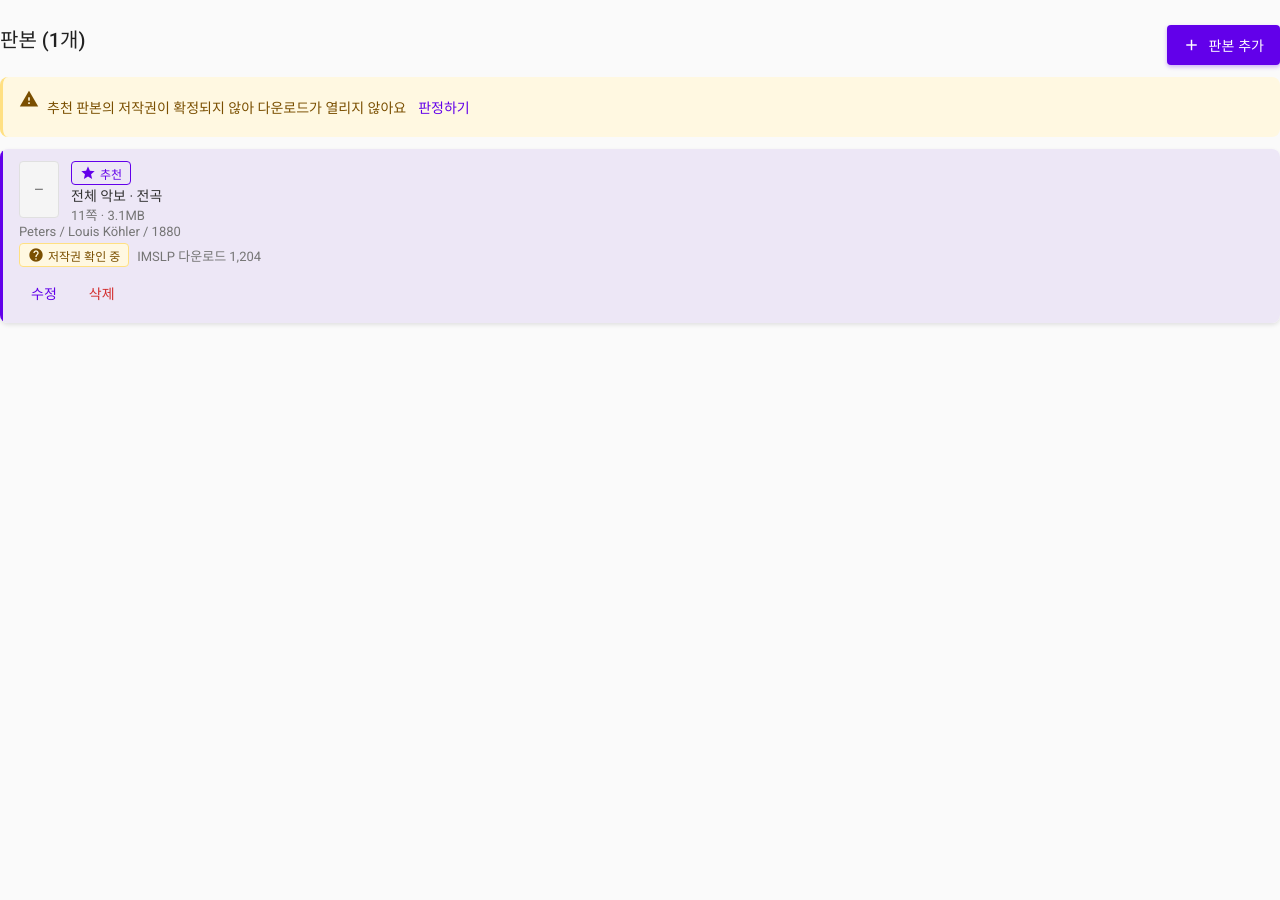
EditionListSection — 빈·경고 상태 › 추천이 있는데 판정이 확정되지 않았으면 경고 + '판정하기' 가 그 행 수정 모달을 연다
The image size is (1280, 900).
Click the button "판정하기": (444, 107) [406,89,482,125]
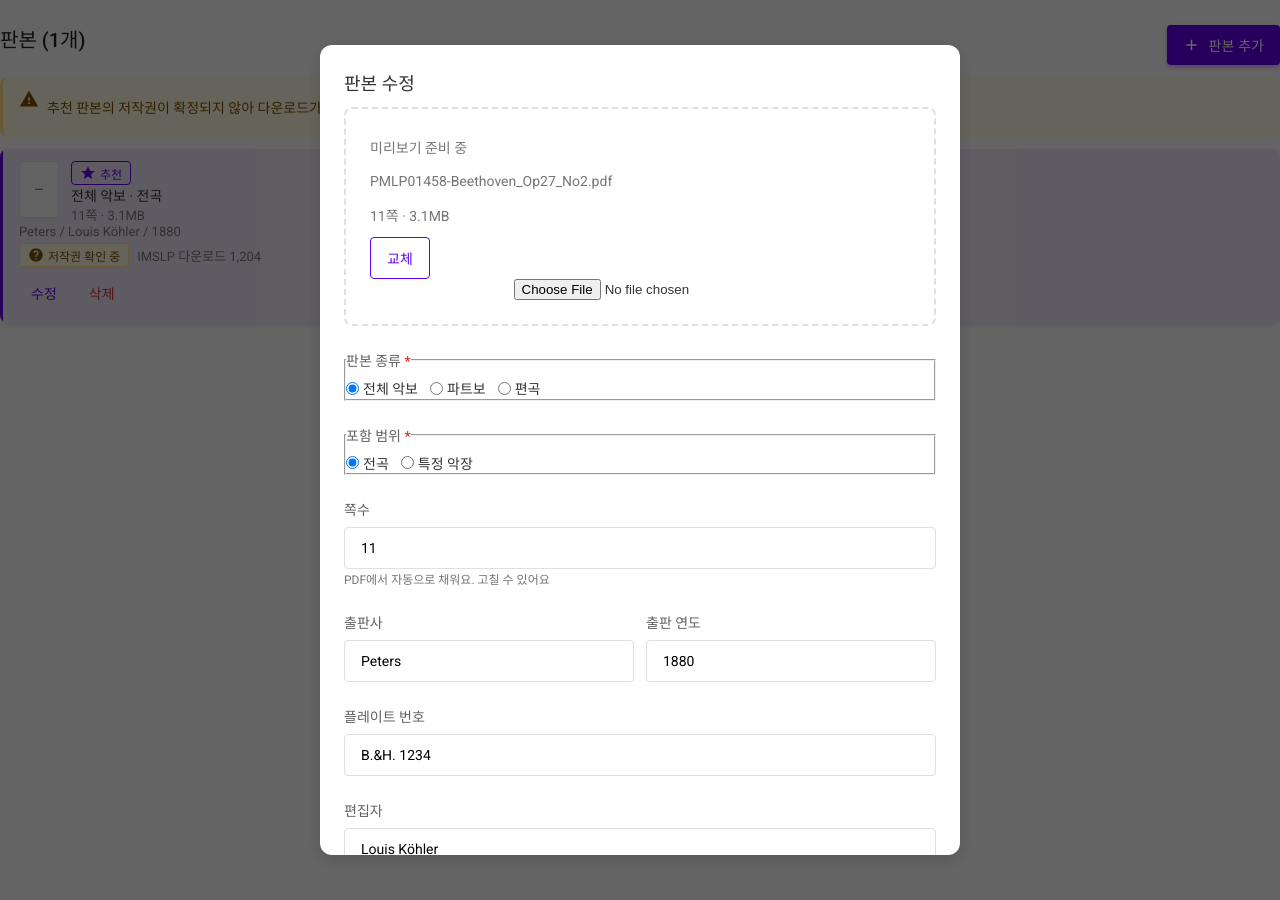
Now the heading "판본 수정" is shown, box [344,73,415,94]
